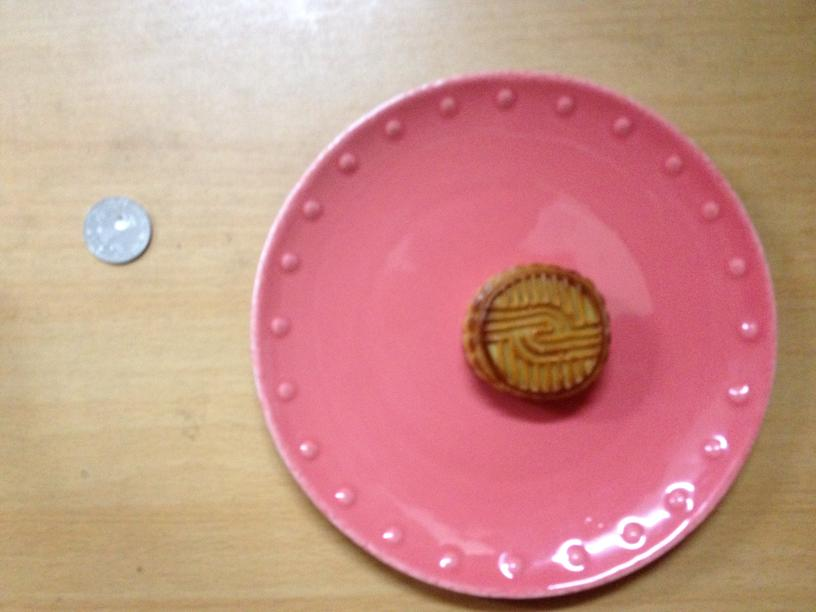coin: (79, 196, 150, 263)
mooncake: (466, 266, 611, 402)
